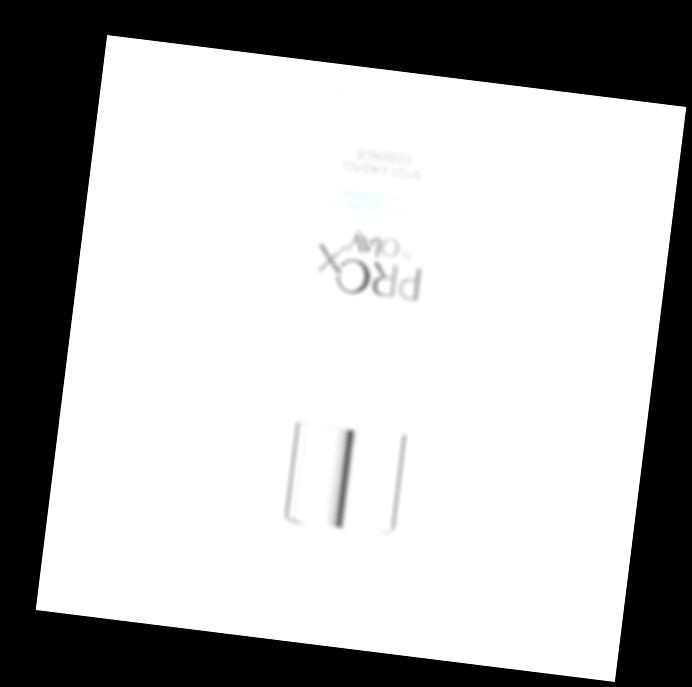cosmetic: (250, 99, 461, 623)
